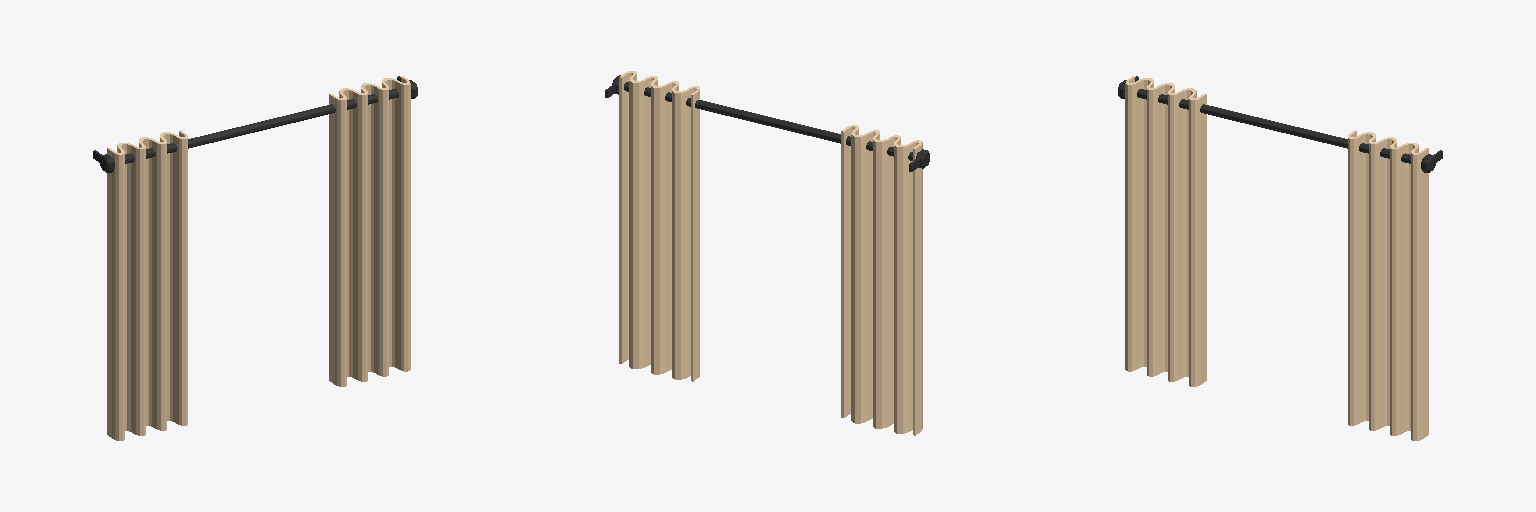
The model's file is Big_Curtain.obj.
The picture shows the model from 3 angles: view 1: azimuth 30°, elevation 25°; view 2: azimuth 150°, elevation 25°; view 3: azimuth 330°, elevation 25°; orthographic projection.
Visible parts, largest first — view 1: mergedBlocks; view 2: mergedBlocks; view 3: mergedBlocks.
Part boxes in pixels (x1,y1,x2,y2): mergedBlocks: (93, 76, 417, 440); mergedBlocks: (605, 71, 929, 435); mergedBlocks: (1118, 76, 1442, 440).
Size of the model in its own units: 2.1 by 1.85 by 0.225.